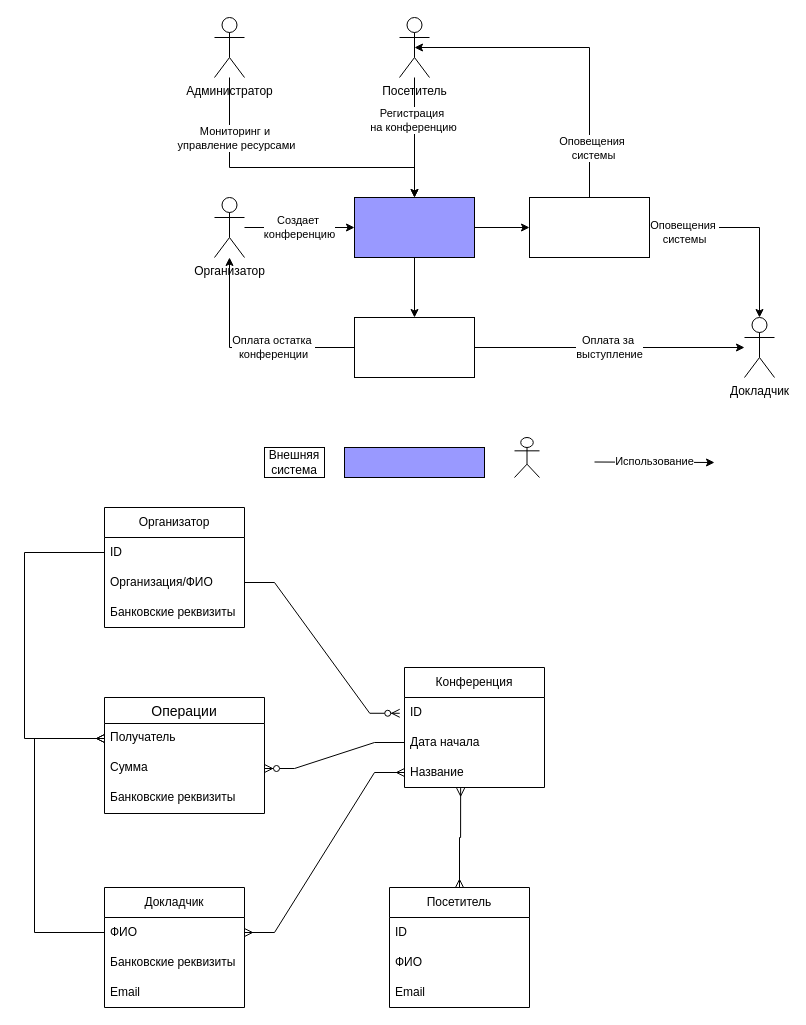
Some shapes in this 806 by 1025 pixel diagram are drawn without their labels. Here are the shapes that lost their labels. From the top down, the centre of each, then its label:
At [414,227]: "Система организации конференций".
At [589,227]: "Почтовая служба".
At [414,347]: "Банковская система".
At [414,462]: "Разрабатываемая система".
At [527,457]: "Пользователь".
